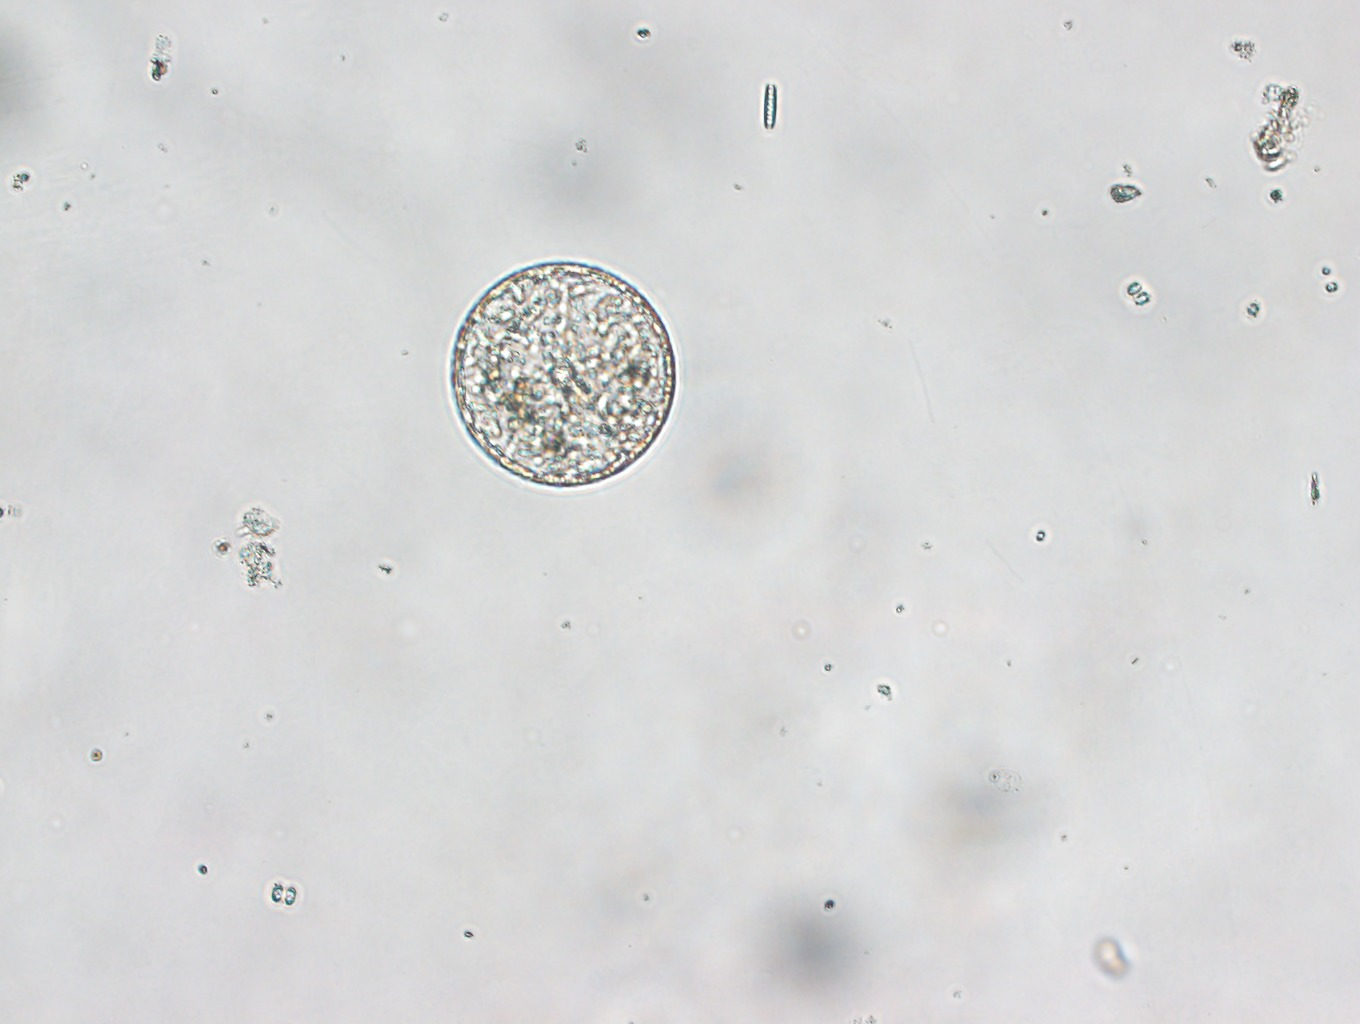coscinodiscus: (441, 255, 682, 492)
